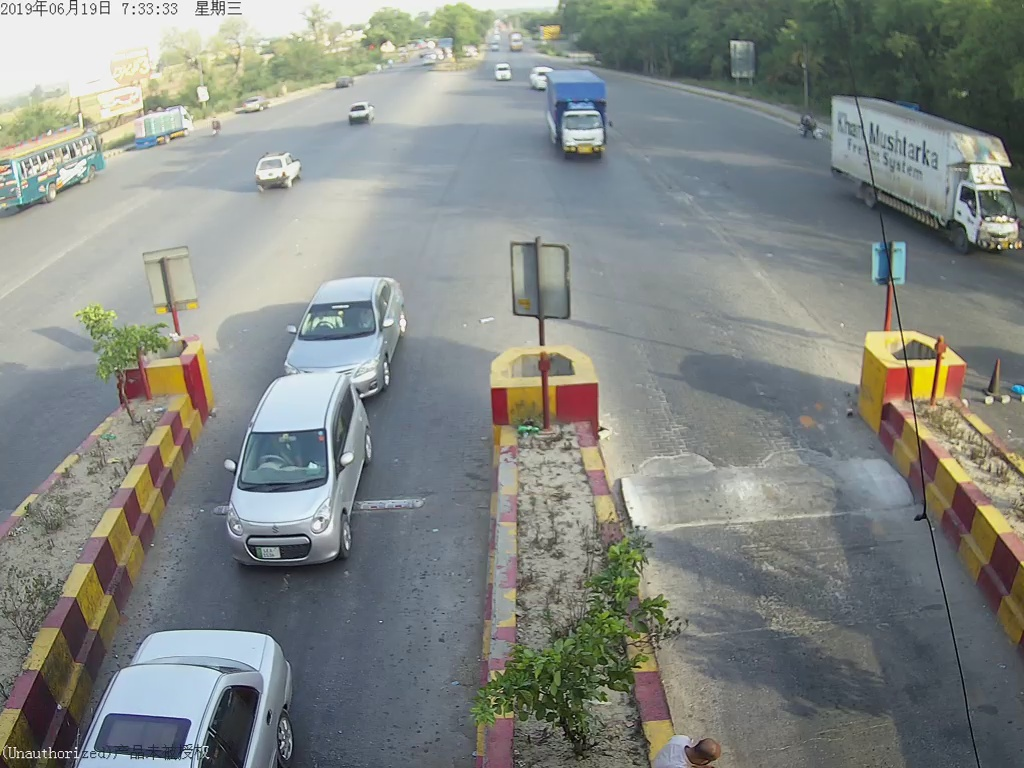Cat-1: (214, 385, 387, 574), (283, 273, 409, 369)
Cat-4: (541, 74, 624, 171)
